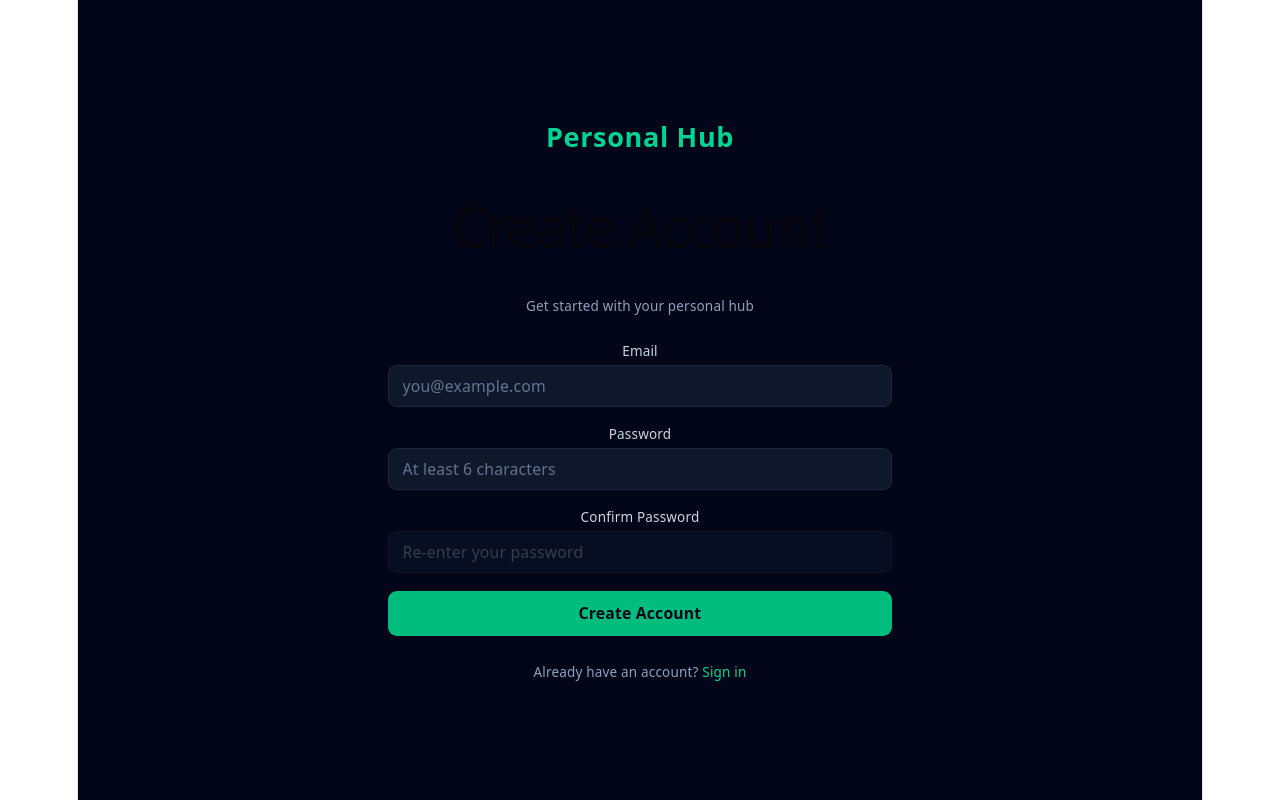
Test: RegisterPage component › displays inline validation errors and prevents submit when inputs are empty or invalid
Click the button "Create Account".
click(640, 614)  # box [388,591,892,636]
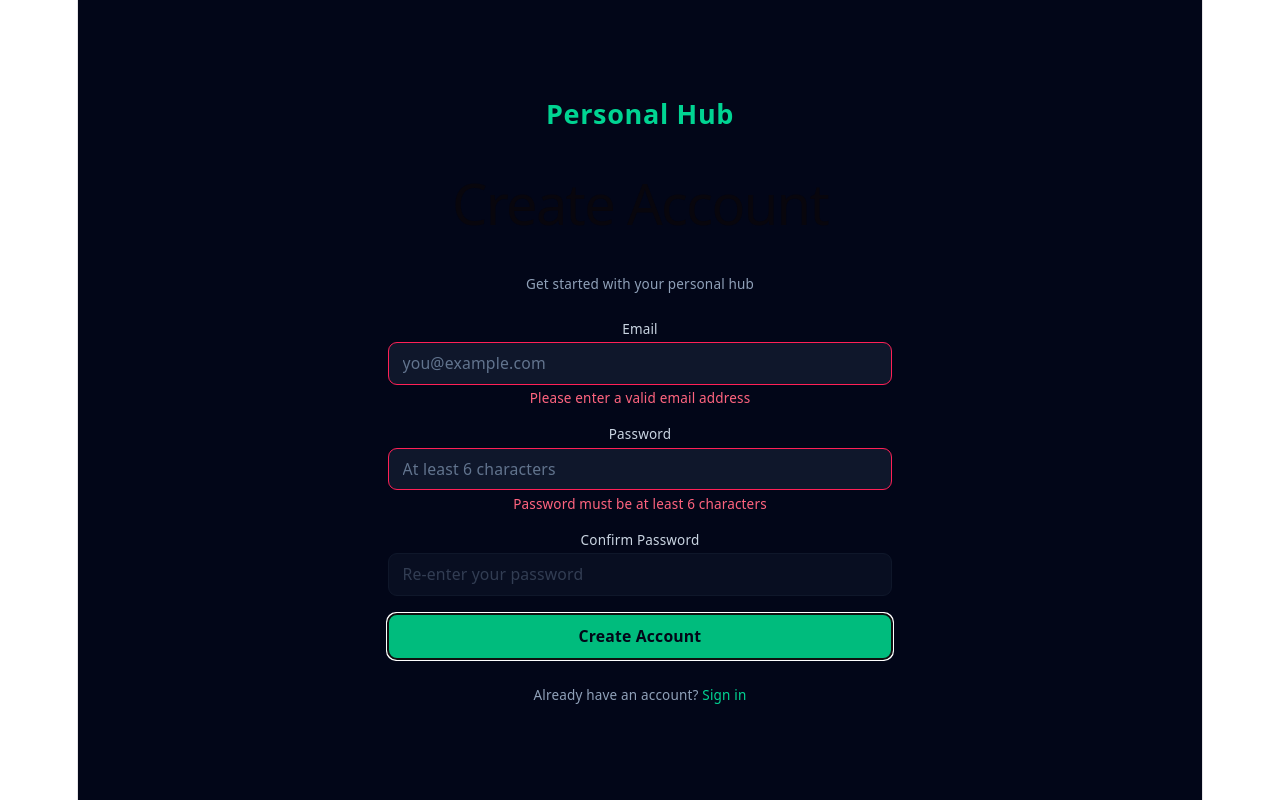
Check: the text "Please enter a valid email address" is shown, box [530,389,750,407]
Check: the text "Password must be at least 6 characters" is shown, box [513,495,767,513]
